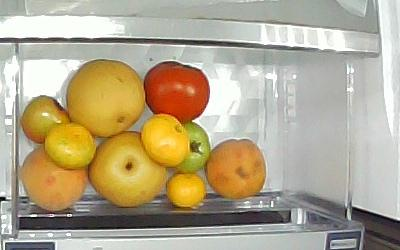peach: (20, 145, 88, 212), (205, 139, 268, 200)
pear: (66, 59, 146, 138), (89, 132, 167, 208)
tangerine: (142, 114, 188, 166), (46, 124, 97, 169), (168, 174, 206, 208)
tomato: (144, 61, 210, 124), (20, 95, 70, 144), (169, 123, 211, 172)
